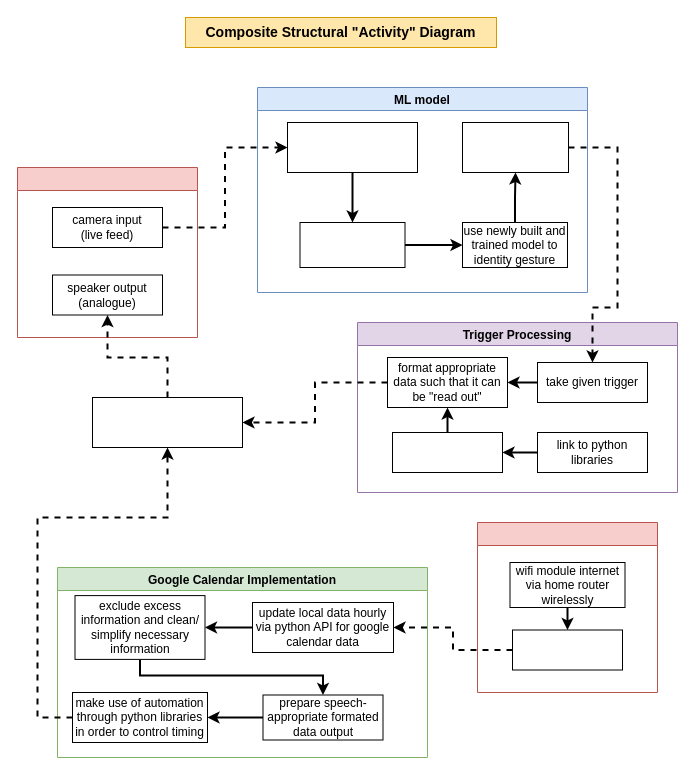
Image size: 695x775. Some labels were removed from this diagram. Each missing label, with the box of its shape:
appropriate data retrieval: (392, 432, 502, 472)
Google speech-to-text converter (via python API): (92, 396, 242, 448)
Hardware: I/O: (16, 166, 198, 338)
Hardware: IOT: (476, 522, 658, 692)
isolate hand positioning and retain co-ord data: (299, 222, 405, 268)
provide trigger for process in order to fulfil given gesture: (462, 122, 568, 172)
use MediaPipe solution to recognize hand from input feed: (286, 122, 418, 172)
web-based data retrieval: (512, 629, 622, 670)
